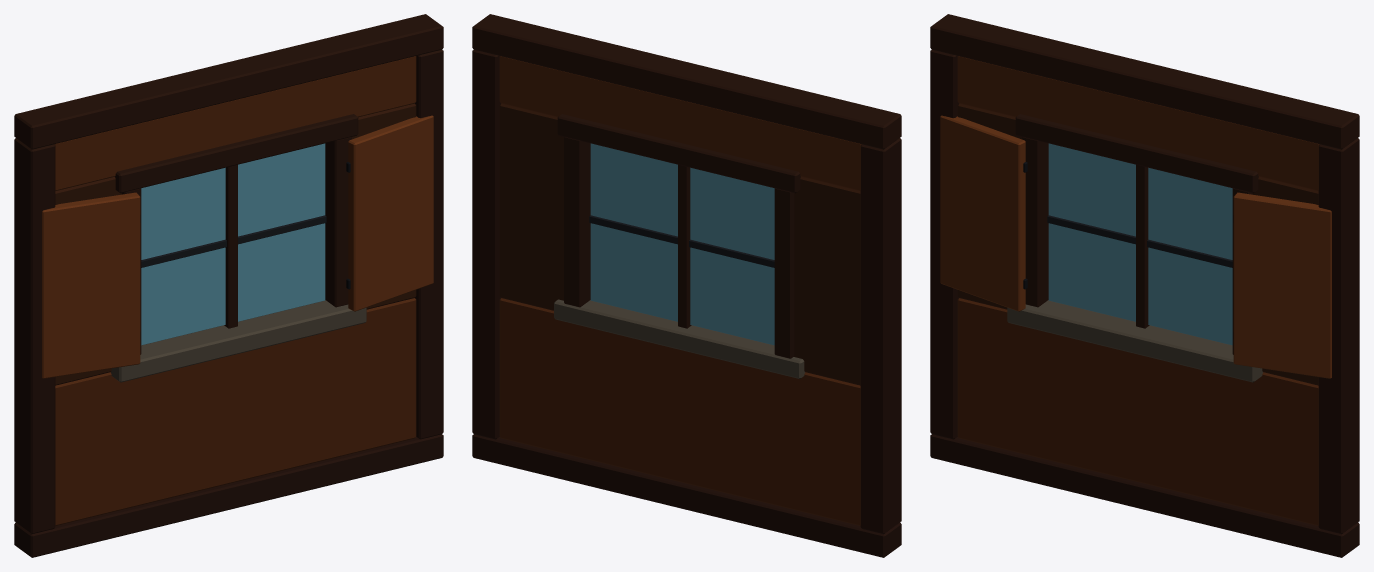
Rendered from mod_shuttered_window_2x2m.glb.
3 views of the same model, side by side, from view 1: azimuth 30°, elevation 25°; view 2: azimuth 150°, elevation 25°; view 3: azimuth 330°, elevation 25° (orthographic).
Parts seen in each view (by area): view 1: Mod_Shuttered_Window_2x2m; view 2: Mod_Shuttered_Window_2x2m; view 3: Mod_Shuttered_Window_2x2m.
Boxes of the visible parts, x1,y1,x2,y2 form: Mod_Shuttered_Window_2x2m: [14, 14, 443, 557]; Mod_Shuttered_Window_2x2m: [472, 14, 901, 557]; Mod_Shuttered_Window_2x2m: [930, 14, 1359, 557].
Bounding box in the file's own units: 2 × 2 × 0.2449.
